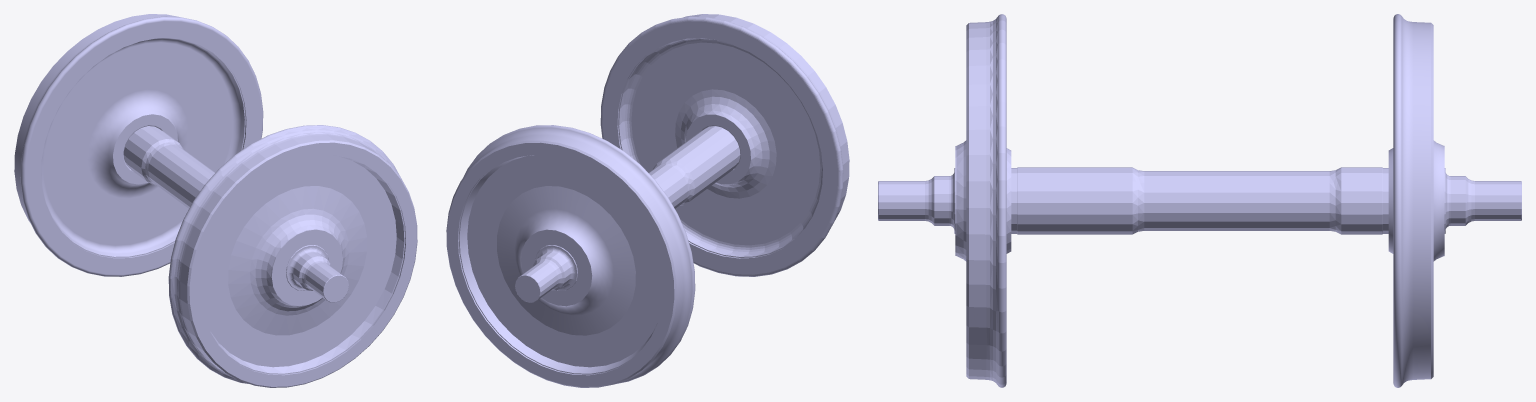
3 renders of one model, left to right at view 1: azimuth 30°, elevation 25°; view 2: azimuth 150°, elevation 25°; view 3: azimuth 270°, elevation 25°, orthographic. The views are drawn at different scales.
Visible parts, largest first — view 1: 零件几何体; view 2: 零件几何体; view 3: 零件几何体.
Boxes of the visible parts, <box> form: 零件几何体: <box>14,14,417,387</box>; 零件几何体: <box>446,14,849,387</box>; 零件几何体: <box>878,14,1521,387</box>.
Size of the model in its own units: 51.35 by 51.4 by 88.5.
